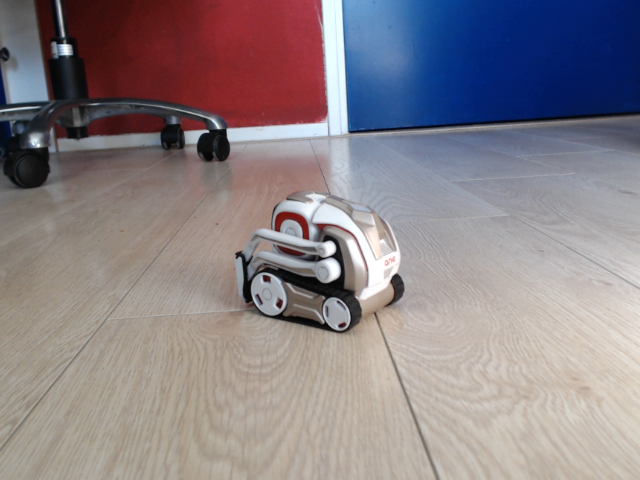cozmo: (229, 184, 415, 337)
